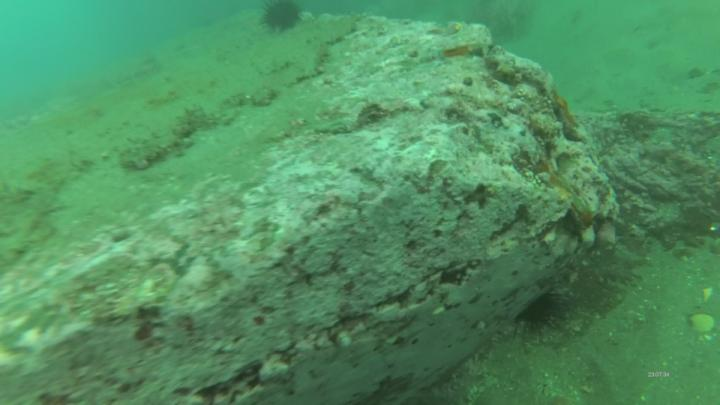echinus: (518, 291, 562, 331), (257, 1, 307, 34)
